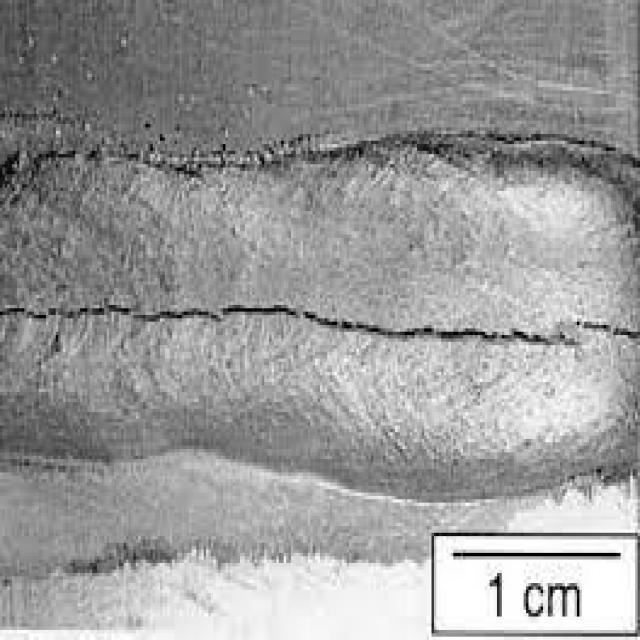Crack: (0, 288, 635, 359)
